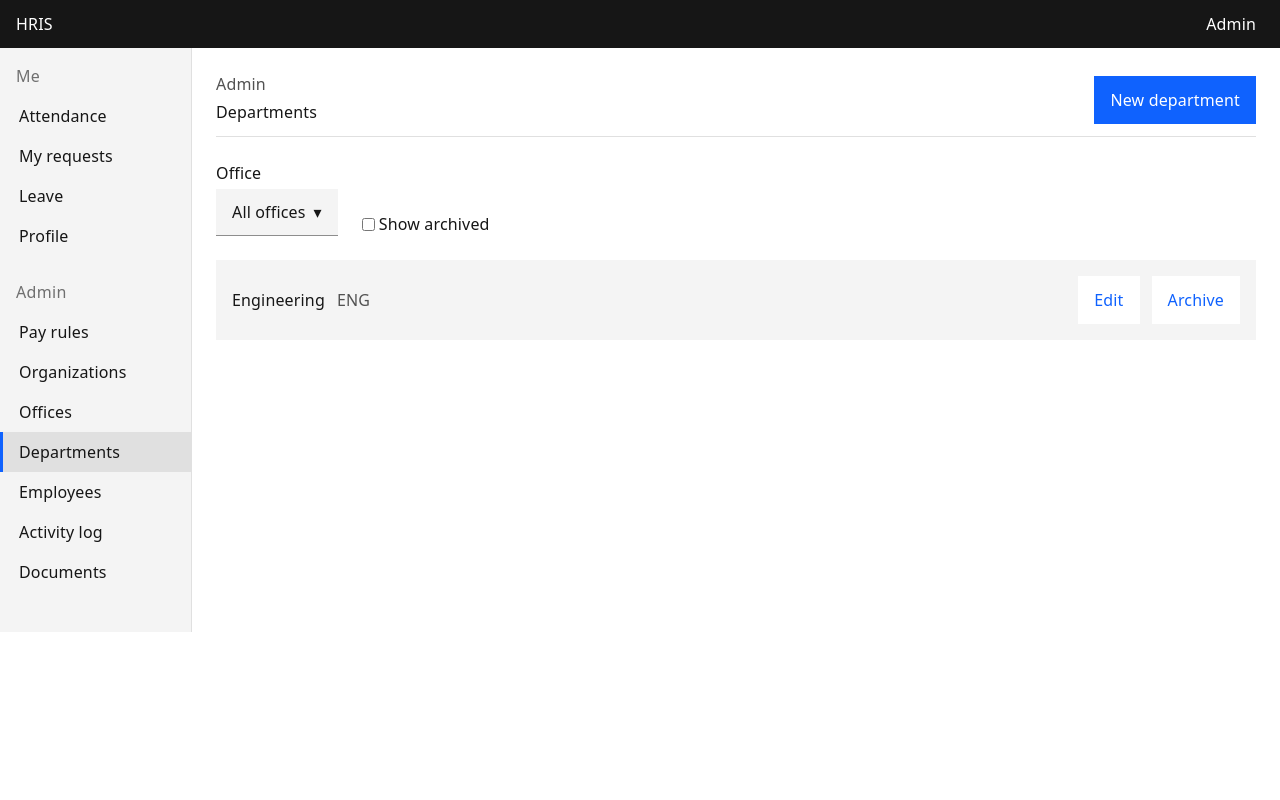
Test: /admin/departments — list › hides archived departments until the show-archived toggle is on
expect the text "Engineering" is shown: met, box [232,288,325,312]
expect the text "Facilities" is not shown: met
Click the checkbox labelled "Show archived" at {"x": 368, "y": 224}, box [362,218,375,230]
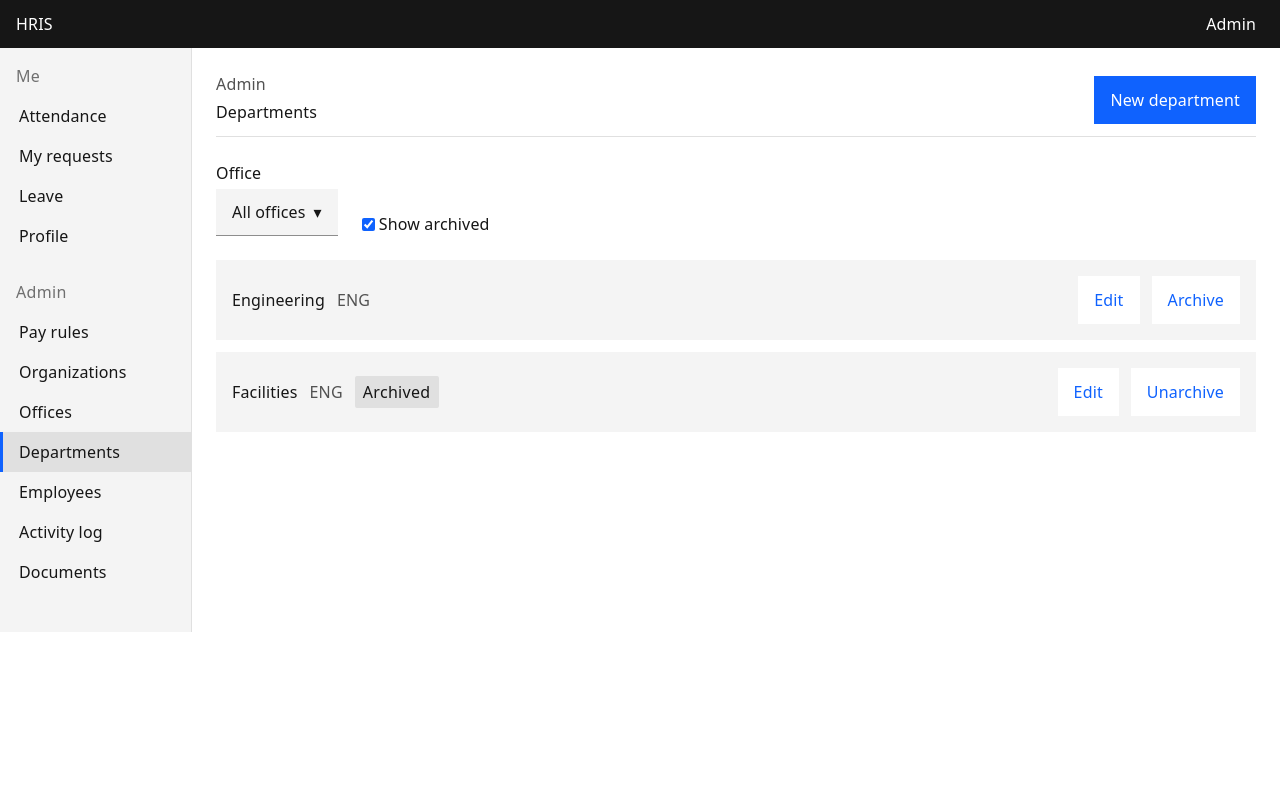
expect the text "Facilities" is shown: met, box [232,380,298,404]
expect the text "Archived" is shown: met, box [355,376,438,408]
